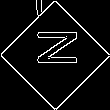N_W: (30, 35, 80, 75)
